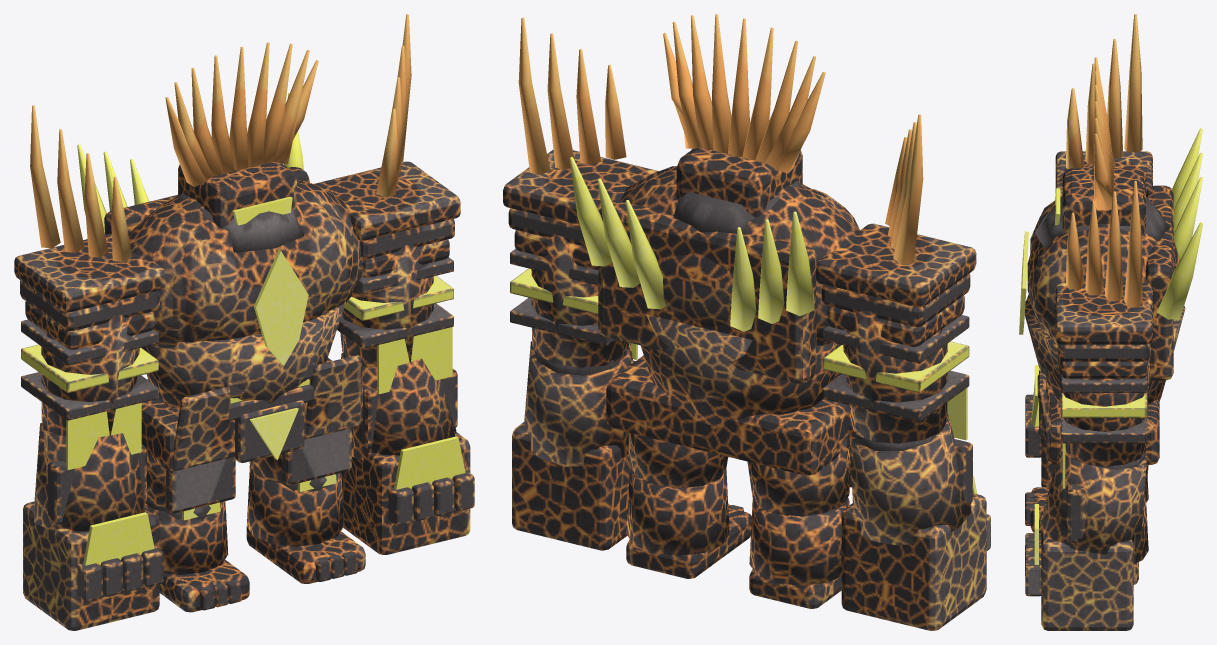
Rendered from Regent.glb.
3 renders of one model, left to right at view 1: azimuth 30°, elevation 25°; view 2: azimuth 150°, elevation 25°; view 3: azimuth 270°, elevation 25°, orthographic. The views are drawn at different scales.
Visible parts, largest first — view 1: Regent_spine, Regent_upperArmR, Regent_upperArmL, Regent_head, Regent_handR, Regent_hips, Regent_handL, Regent_lowerArmR, Regent_lowerArmL, Regent_lowerLegL, Regent_upperLegR, Regent_lowerLegR (+4 smaller); view 2: Regent_spine, Regent_upperArmR, Regent_upperArmL, Regent_head, Regent_handR, Regent_hips, Regent_lowerArmR, Regent_vents, Regent_handL, Regent_lowerArmL, Regent_lowerLegL, Regent_lowerLegR (+4 smaller); view 3: Regent_upperArmL, Regent_spine, Regent_handL, Regent_lowerArmL, Regent_upperArmR, Regent_head, Regent_vents, Regent_hips, Regent_handR, Regent_footR, Regent_lowerLegL.
Part boxes in pixels (x1=…): Regent_spine: x1=104, y1=167, x2=362, y2=421; Regent_upperArmR: x1=14, y1=105, x2=165, y2=436; Regent_upperArmL: x1=314, y1=14, x2=460, y2=367; Regent_head: x1=165, y1=42, x2=318, y2=227; Regent_handR: x1=23, y1=501, x2=163, y2=630; Regent_hips: x1=141, y1=355, x2=362, y2=470; Regent_handL: x1=341, y1=432, x2=474, y2=554; Regent_lowerArmR: x1=34, y1=403, x2=146, y2=531; Regent_lowerArmL: x1=341, y1=327, x2=457, y2=460; Regent_lowerLegL: x1=246, y1=465, x2=343, y2=546; Regent_upperLegR: x1=146, y1=455, x2=235, y2=519; Regent_lowerLegR: x1=144, y1=501, x2=228, y2=574; Regent_spine: x1=598, y1=166, x2=859, y2=425; Regent_upperArmR: x1=816, y1=114, x2=976, y2=450; Regent_upperArmL: x1=503, y1=17, x2=658, y2=375; Regent_head: x1=663, y1=14, x2=825, y2=217; Regent_handR: x1=841, y1=476, x2=990, y2=630; Regent_hips: x1=606, y1=355, x2=850, y2=475; Regent_lowerArmR: x1=849, y1=387, x2=972, y2=545; Regent_vents: x1=569, y1=157, x2=814, y2=331; Regent_handL: x1=512, y1=422, x2=630, y2=550; Regent_lowerArmL: x1=524, y1=341, x2=637, y2=466; Regent_lowerLegL: x1=626, y1=467, x2=729, y2=555; Regent_lowerLegR: x1=749, y1=497, x2=849, y2=585; Regent_upperArmL: x1=1055, y1=181, x2=1152, y2=469; Regent_spine: x1=1019, y1=185, x2=1185, y2=403; Regent_handL: x1=1025, y1=504, x2=1133, y2=630; Regent_lowerArmL: x1=1039, y1=443, x2=1146, y2=554; Regent_upperArmR: x1=1055, y1=14, x2=1152, y2=196; Regent_head: x1=1055, y1=57, x2=1145, y2=233; Regent_vents: x1=1156, y1=128, x2=1202, y2=320; Regent_hips: x1=1031, y1=370, x2=1159, y2=464; Regent_handR: x1=1025, y1=365, x2=1055, y2=487; Regent_footR: x1=1025, y1=487, x2=1049, y2=533; Regent_lowerLegL: x1=1133, y1=494, x2=1148, y2=563.
Bounding box in the file's own units: 3.1 × 3.79 × 1.32.
1 material, 1 textured.
